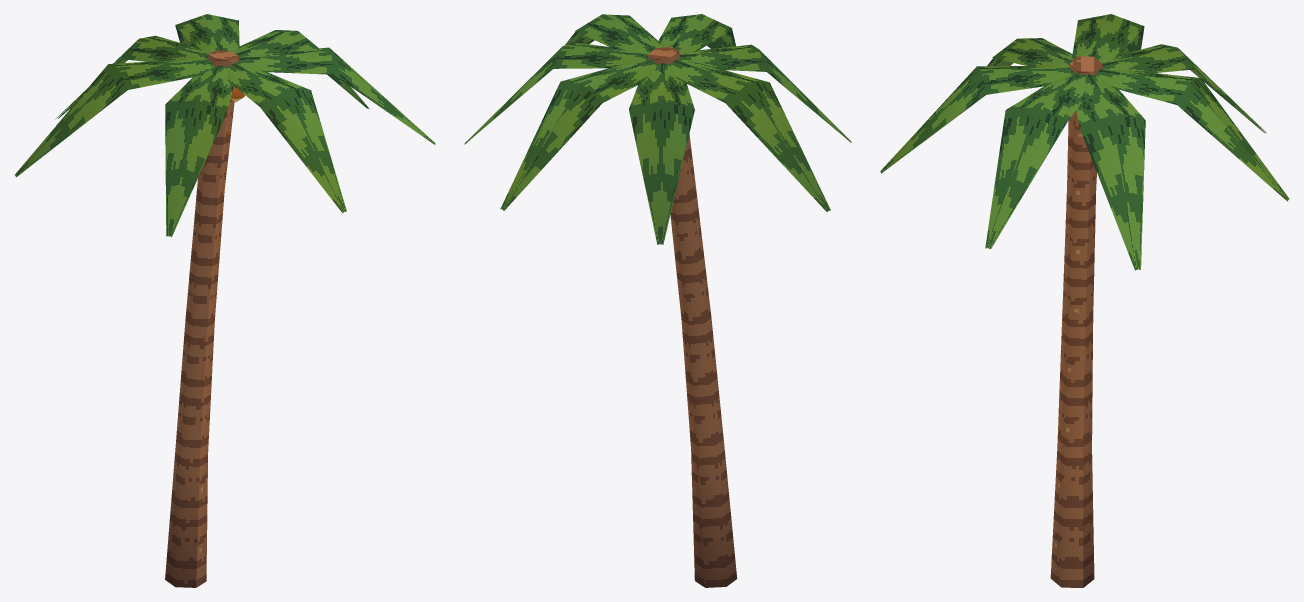
File: wild.palm.glb
3 renders of one model, left to right at view 1: azimuth 30°, elevation 25°; view 2: azimuth 150°, elevation 25°; view 3: azimuth 270°, elevation 25°, orthographic. The views are drawn at different scales.
Visible parts, largest first — view 1: kit_shell_crown, kit_trunk; view 2: kit_shell_crown, kit_trunk; view 3: kit_shell_crown, kit_trunk.
Part boxes in pixels (x1=…): kit_shell_crown: x1=15, y1=14, x2=435, y2=237; kit_trunk: x1=165, y1=50, x2=239, y2=587; kit_shell_crown: x1=464, y1=14, x2=851, y2=244; kit_trunk: x1=647, y1=46, x2=737, y2=587; kit_shell_crown: x1=880, y1=14, x2=1289, y2=270; kit_trunk: x1=1050, y1=56, x2=1102, y2=587.
Bounding box in the file's own units: 4.76 × 6.54 × 4.48.
3 materials, 3 textured.
